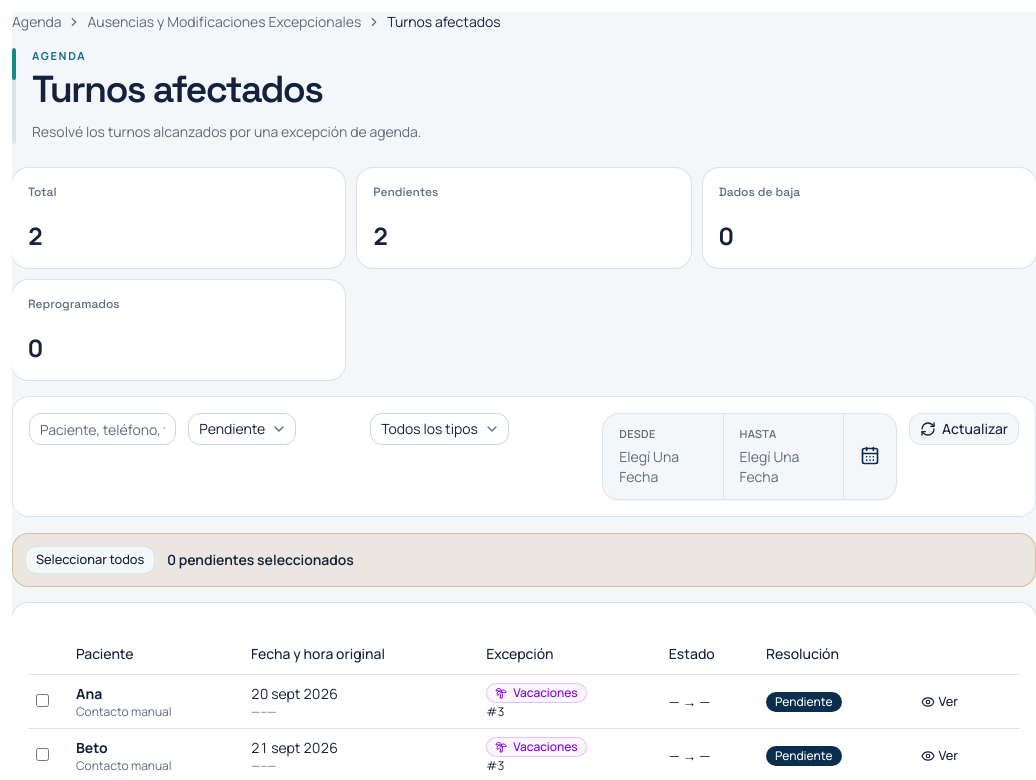
Test: AbsenceManagementPage › selecciona todos los turnos pendientes visibles en Turnos afectados
This screenshot has width=1036, height=780.
Step 1. Click the button "Seleccionar todos" → (90, 560), box [25,546,155,574]
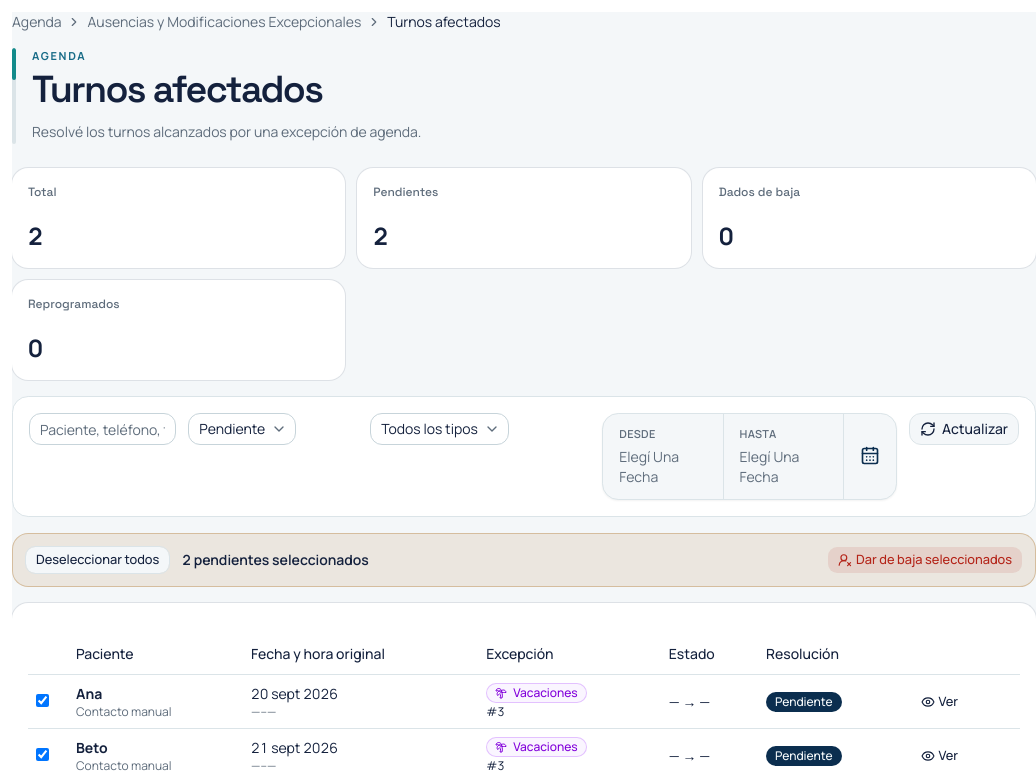
expect the checkbox named "Seleccionar turno 101" is checked: met, box [36,694,49,707]
expect the checkbox named "Seleccionar turno 102" is checked: met, box [36,748,49,761]
expect the text "2 pendientes seleccionados" is shown: met, box [182,550,369,570]
Step 2. Click the button "Deseleccionar todos" → (98, 560), box [25,546,170,574]
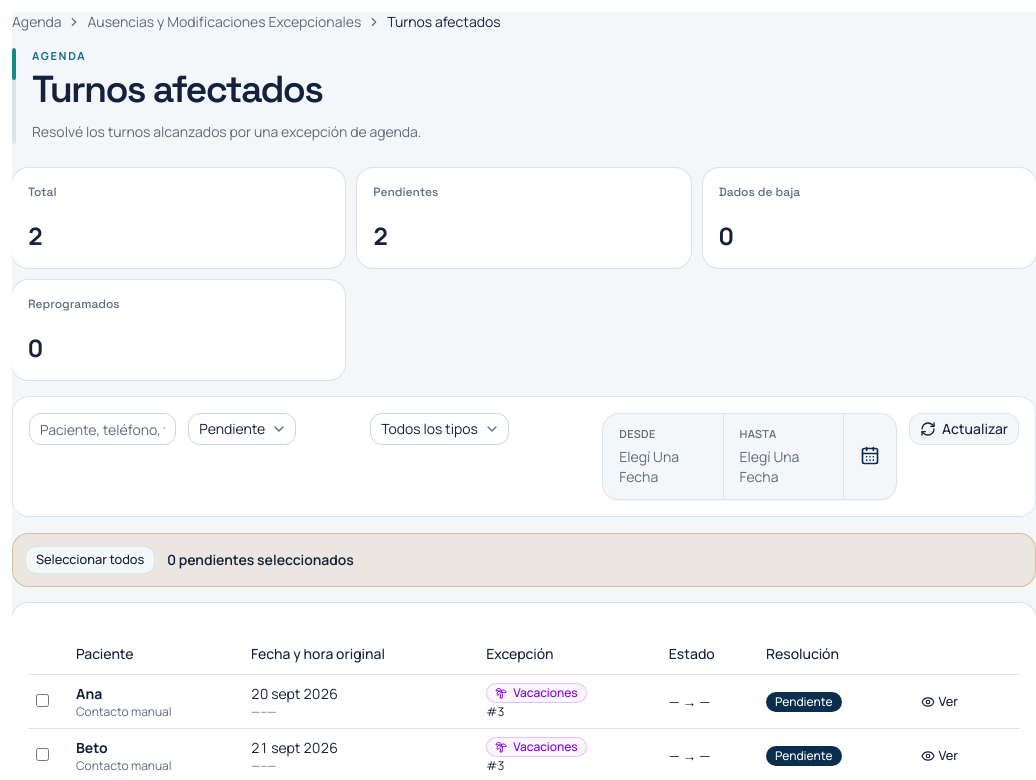
expect the checkbox named "Seleccionar turno 101" is not checked: met, box [36,694,49,707]
expect the checkbox named "Seleccionar turno 102" is not checked: met, box [36,748,49,761]
